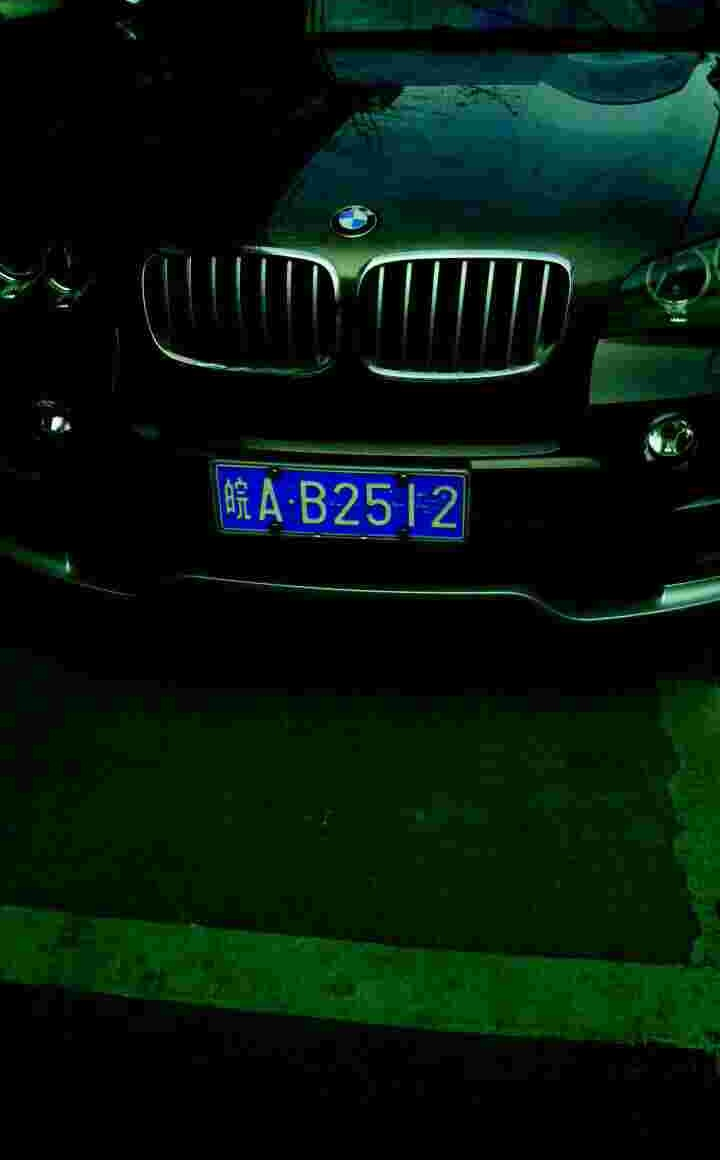license_plate: (217, 462, 473, 528)
